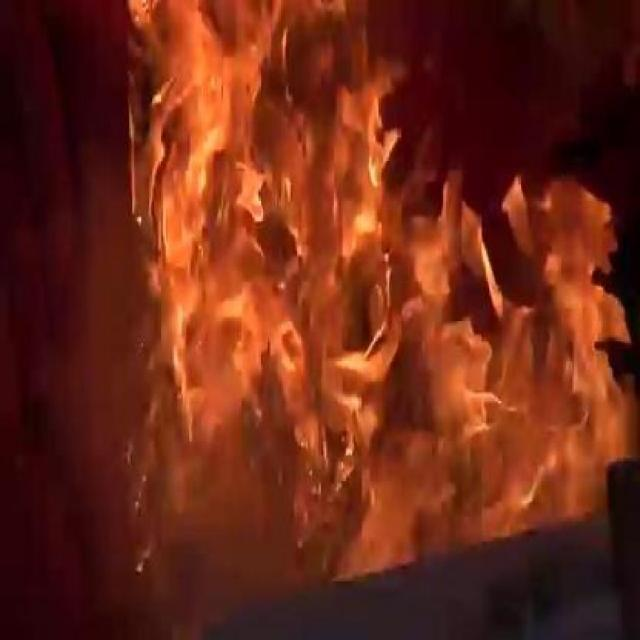fire: (10, 7, 636, 613)
